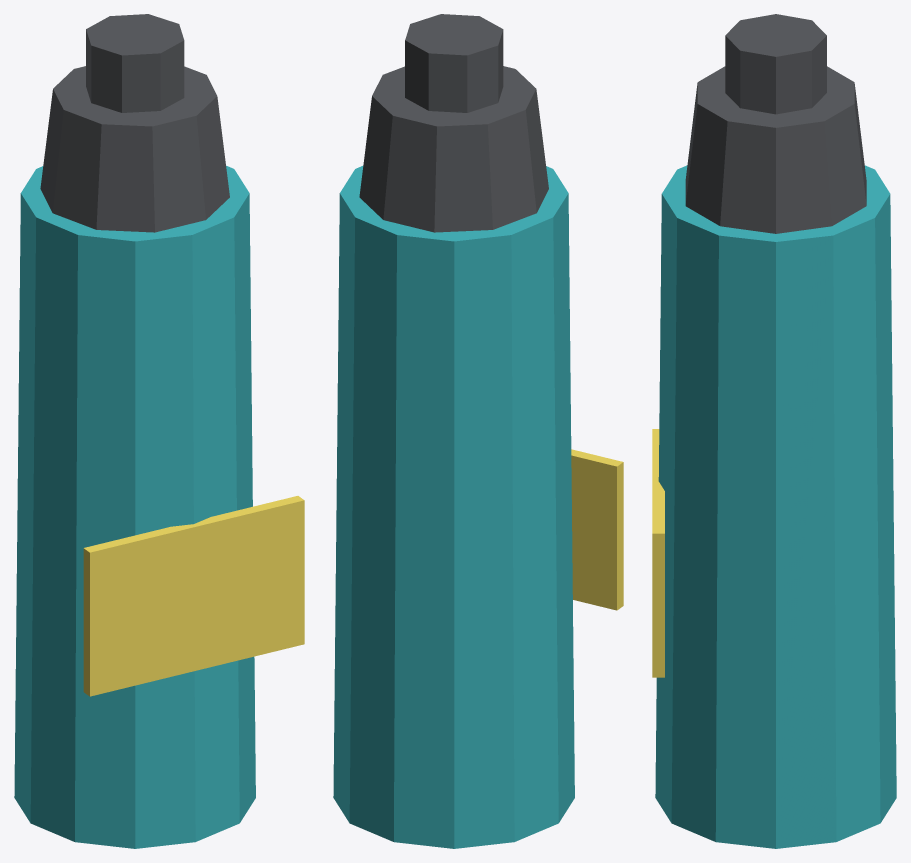
The model's file is skate-park-and-street-sports-water-bottle-c692105a__33539.glb.
The picture shows the model from 3 angles, left to right: view 1: azimuth 30°, elevation 25°; view 2: azimuth 150°, elevation 25°; view 3: azimuth 270°, elevation 25°; orthographic projection.
Parts seen in each view (by area): view 1: water-bottle-teal, water-bottle-canary, water-bottle-charcoal; view 2: water-bottle-teal, water-bottle-charcoal, water-bottle-canary; view 3: water-bottle-teal, water-bottle-charcoal, water-bottle-canary.
Part boxes in pixels (x1=…): water-bottle-teal: x1=14, y1=165, x2=255, y2=848; water-bottle-canary: x1=83, y1=496, x2=304, y2=696; water-bottle-charcoal: x1=40, y1=14, x2=229, y2=232; water-bottle-teal: x1=333, y1=166, x2=574, y2=848; water-bottle-charcoal: x1=359, y1=14, x2=548, y2=232; water-bottle-canary: x1=571, y1=449, x2=623, y2=610; water-bottle-teal: x1=655, y1=165, x2=896, y2=848; water-bottle-charcoal: x1=685, y1=14, x2=866, y2=233; water-bottle-canary: x1=652, y1=429, x2=664, y2=677.
Bounding box in the file's own units: 0.078 × 0.265 × 0.077.
